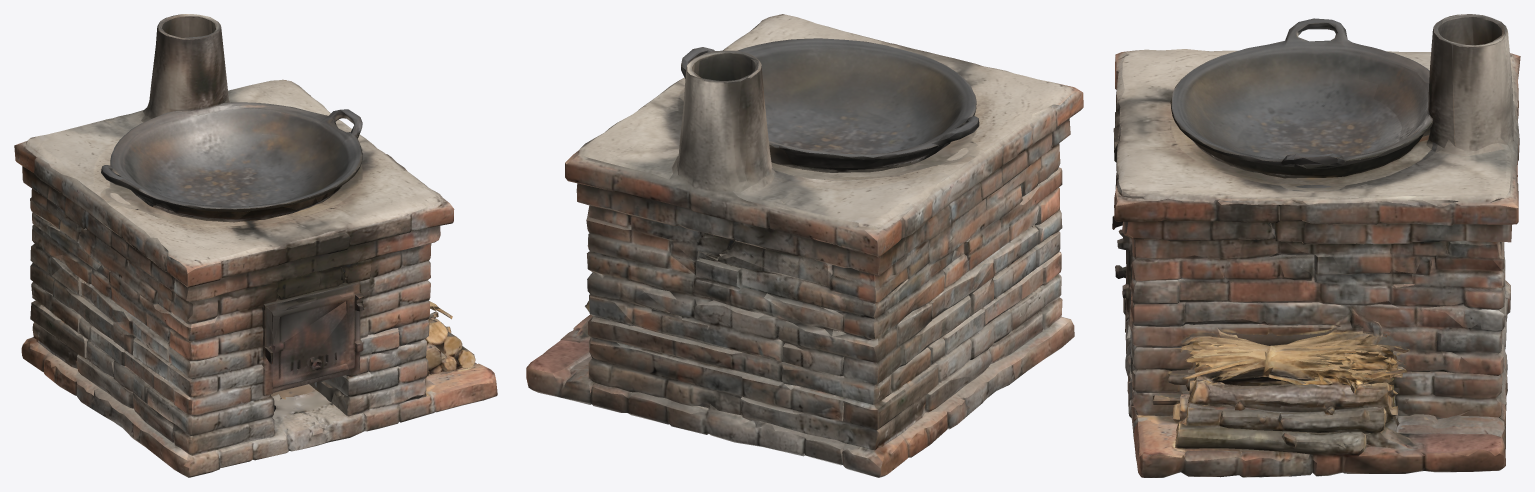
The model's file is stove.glb.
The picture shows the model from 3 angles, left to right: view 1: azimuth 30°, elevation 25°; view 2: azimuth 150°, elevation 25°; view 3: azimuth 270°, elevation 25°; orthographic projection. The views are drawn at different scales.
Visible parts, largest first — view 1: geometry_0; view 2: geometry_0; view 3: geometry_0.
Boxes of the visible parts, <box> form: geometry_0: <box>14,14,497,477</box>; geometry_0: <box>526,14,1083,477</box>; geometry_0: <box>1112,14,1520,477</box>.
Bounding box in the file's own units: 1.2 × 1.1 × 1.13.
1 material, 1 textured.
